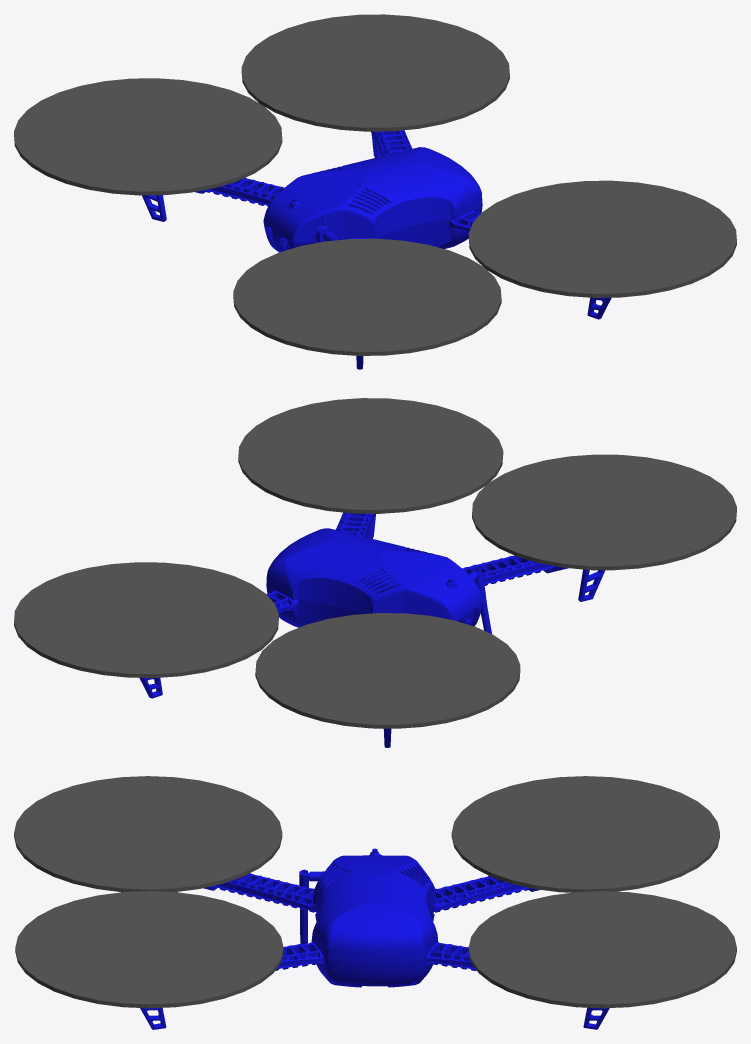
File: IRIS_DAE.dae
3 renders of one model, top to bottom at view 1: azimuth 30°, elevation 25°; view 2: azimuth 150°, elevation 25°; view 3: azimuth 270°, elevation 25°, orthographic.
Visible parts, largest first — view 1: Prop.003, Prop.002, Prop, Prop.001, Iris; view 2: Prop.001, Prop, Prop.003, Prop.002, Iris; view 3: Prop.002, Prop, Prop.003, Prop.001, Iris.
Boxes of the visible parts, x1,y1,x2,y2 form: Prop.003: [14, 78, 282, 195]; Prop.002: [241, 14, 509, 131]; Prop: [468, 180, 736, 297]; Prop.001: [233, 238, 501, 355]; Iris: [142, 130, 611, 369]; Prop.001: [472, 454, 736, 570]; Prop: [238, 398, 503, 513]; Prop.003: [255, 613, 520, 728]; Prop.002: [14, 562, 278, 677]; Iris: [139, 512, 605, 747]; Prop.002: [468, 891, 736, 1008]; Prop: [15, 891, 283, 1008]; Prop.003: [451, 776, 719, 892]; Prop.001: [14, 776, 282, 892]; Iris: [140, 848, 609, 1029].
Size of the model in its own units: 0.5244 by 0.7015 by 0.1137.
